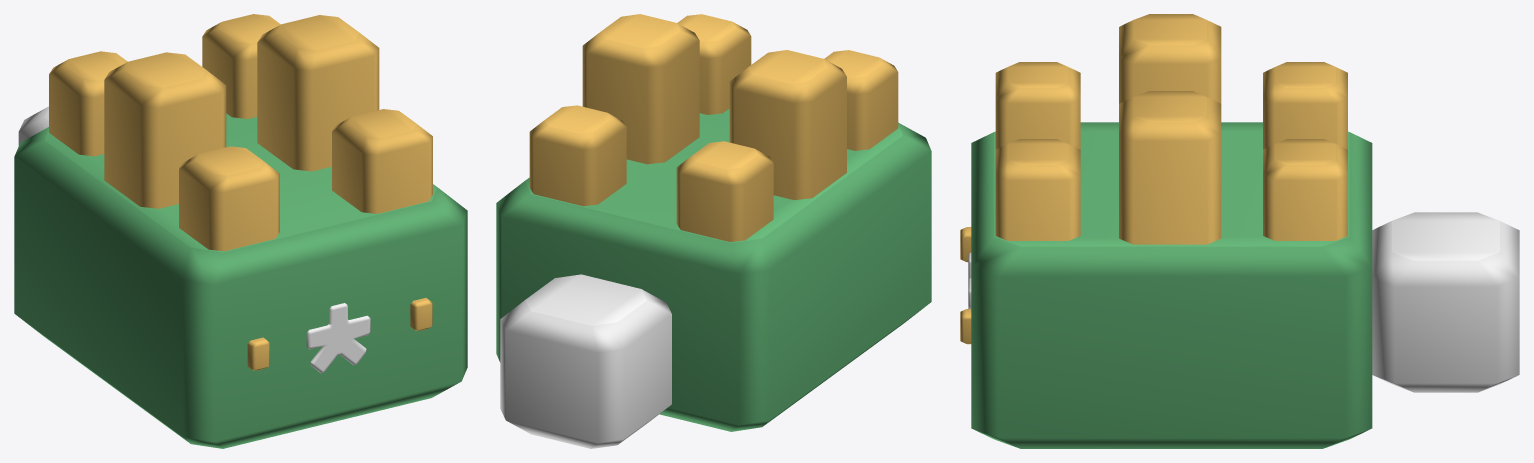
File: model_shiny.obj
3 views of the same model, side by side, from view 1: azimuth 30°, elevation 25°; view 2: azimuth 150°, elevation 25°; view 3: azimuth 270°, elevation 25° (orthographic). The views are drawn at different scales.
Parts seen in each view (by area): view 1: 0771_pyukumuku_shiny; view 2: 0771_pyukumuku_shiny; view 3: 0771_pyukumuku_shiny.
Boxes of the visible parts, box(x1,y1,x2,y2) form: 0771_pyukumuku_shiny: box(14, 14, 467, 448); 0771_pyukumuku_shiny: box(496, 14, 931, 448); 0771_pyukumuku_shiny: box(960, 14, 1519, 448).
Bounding box in the file's own units: 1.18 × 1.22 × 1.94.
1 material, 1 textured.
